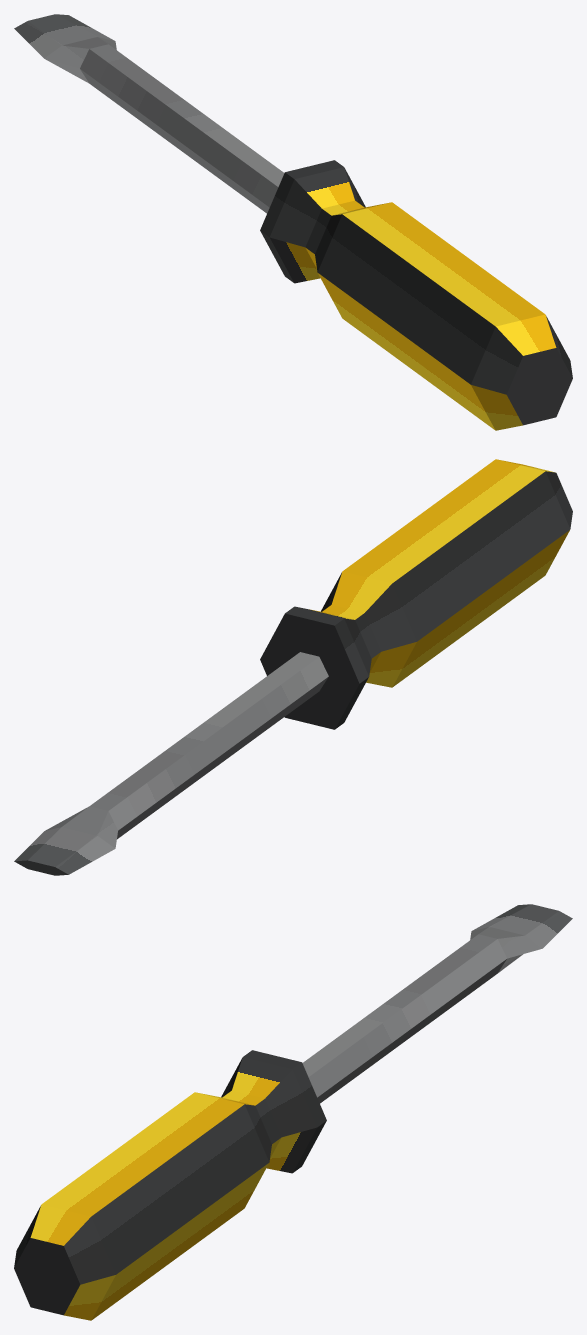
The model's file is screwdriver.gltf.
The picture shows the model from 3 angles, top to bottom: view 1: azimuth 30°, elevation 25°; view 2: azimuth 150°, elevation 25°; view 3: azimuth 330°, elevation 25°; orthographic projection.
Parts seen in each view (by area): view 1: 2; view 2: 2; view 3: 2.
Part boxes in pixels (x1,y1,x2,y2): 2: (14, 14, 572, 430); 2: (14, 459, 572, 875); 2: (14, 904, 572, 1320).
Bounding box in the file's own units: 0.1875 × 0.1875 × 1.62.
1 material, 1 textured.
